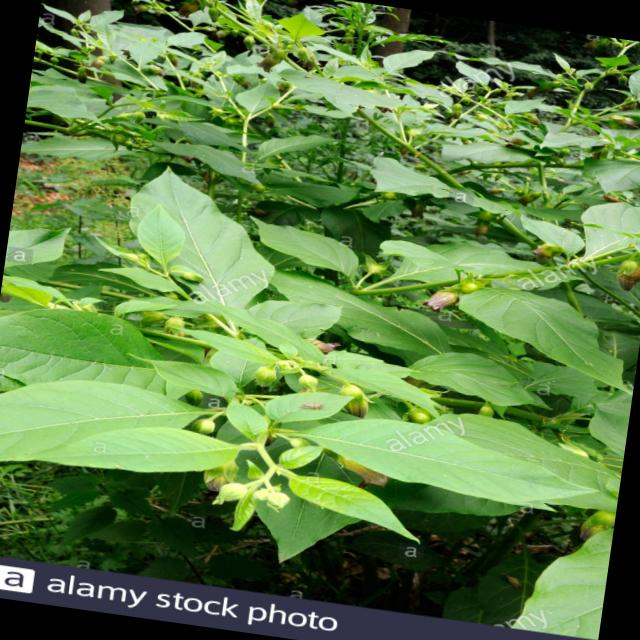Poisonous-Deadly_Nightshade: (25, 192, 640, 631), (53, 0, 640, 305)
